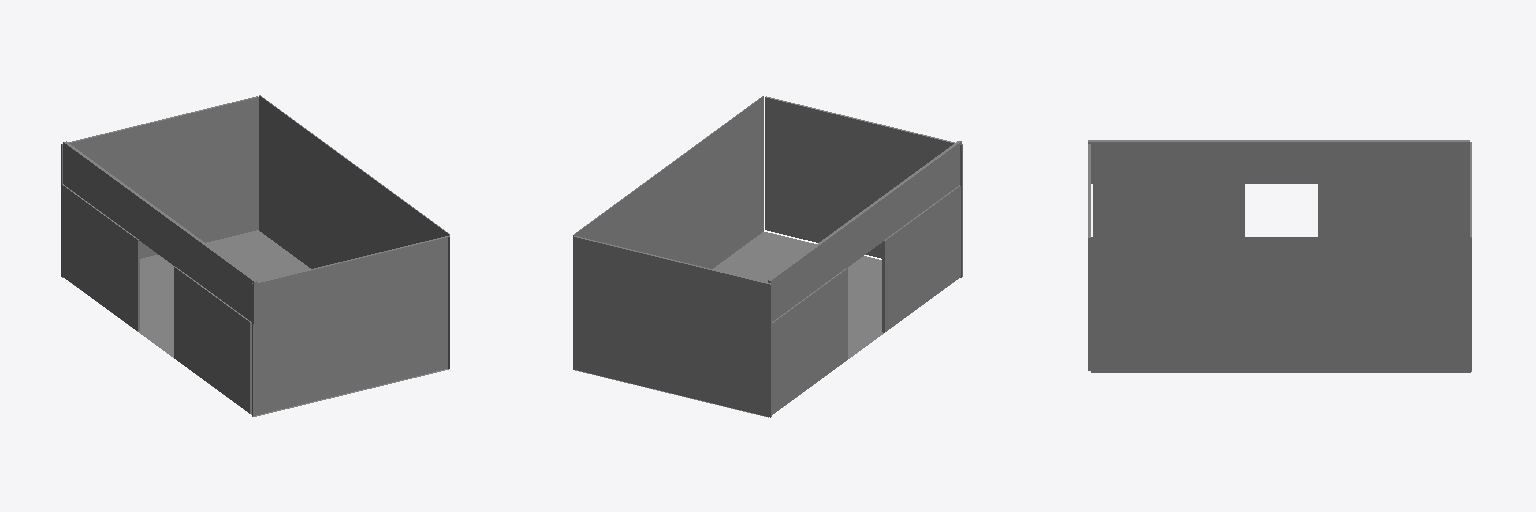
Rendered from tiendajuguetes.obj.
3 views of the same model, side by side, from view 1: azimuth 30°, elevation 25°; view 2: azimuth 150°, elevation 25°; view 3: azimuth 270°, elevation 25° (orthographic).
Visible parts, largest first — view 1: Box053, Box052, Box051, Box059, ventanas002, ventanas001, Box050; view 2: Box052, Box053, Box051, Box059, ventanas002, ventanas001, Box050; view 3: Box051, Box059, ventanas001, ventanas002, Box053.
Boxes of the visible parts, x1=… form: Box053: x1=252, y1=236, x2=449, y2=416; Box052: x1=61, y1=96, x2=258, y2=277; Box051: x1=259, y1=95, x2=449, y2=268; Box059: x1=63, y1=141, x2=256, y2=324; ventanas002: x1=174, y1=267, x2=251, y2=413; ventanas001: x1=62, y1=184, x2=139, y2=331; Box050: x1=70, y1=230, x2=310, y2=414; Box052: x1=574, y1=236, x2=771, y2=417; Box053: x1=765, y1=96, x2=962, y2=277; Box051: x1=573, y1=96, x2=763, y2=369; Box059: x1=768, y1=141, x2=961, y2=321; ventanas002: x1=882, y1=185, x2=960, y2=332; ventanas001: x1=772, y1=268, x2=847, y2=414; Box050: x1=575, y1=232, x2=953, y2=417; Box051: x1=1091, y1=237, x2=1470, y2=372; Box059: x1=1088, y1=140, x2=1469, y2=183; ventanas001: x1=1318, y1=184, x2=1469, y2=236; ventanas002: x1=1093, y1=184, x2=1244, y2=236; Box053: x1=1088, y1=144, x2=1090, y2=370.
Size of the model in its own units: 118 by 77.9 by 199.